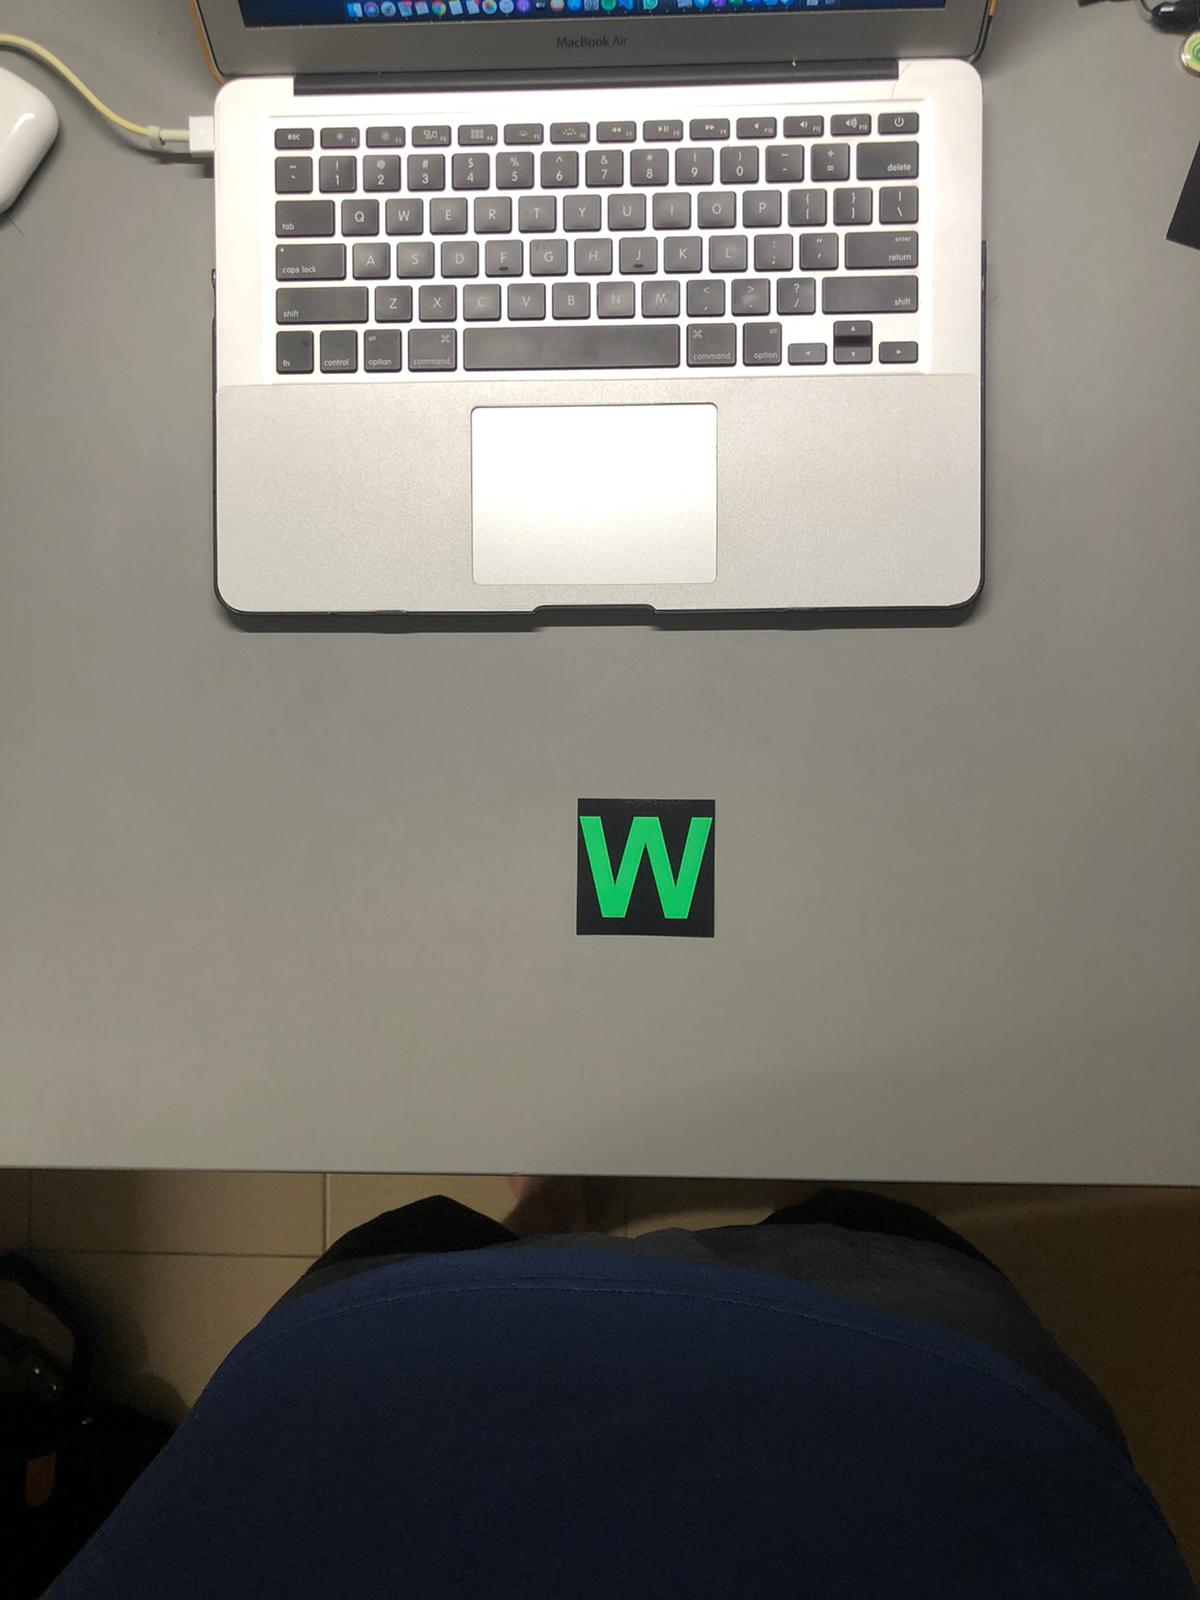W: (574, 787, 711, 940)
